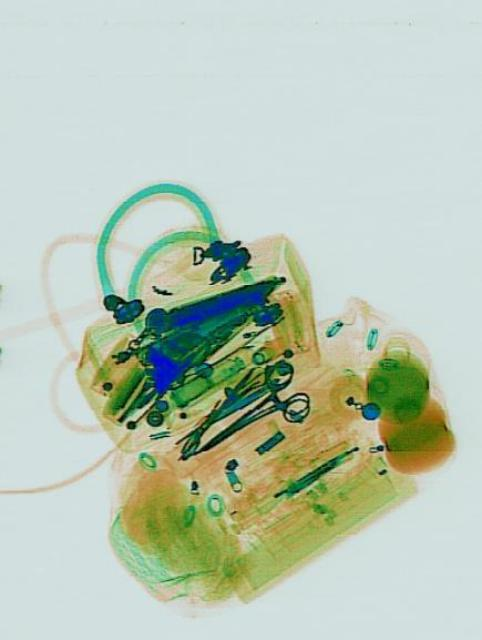Scissors: (184, 351, 314, 479)
